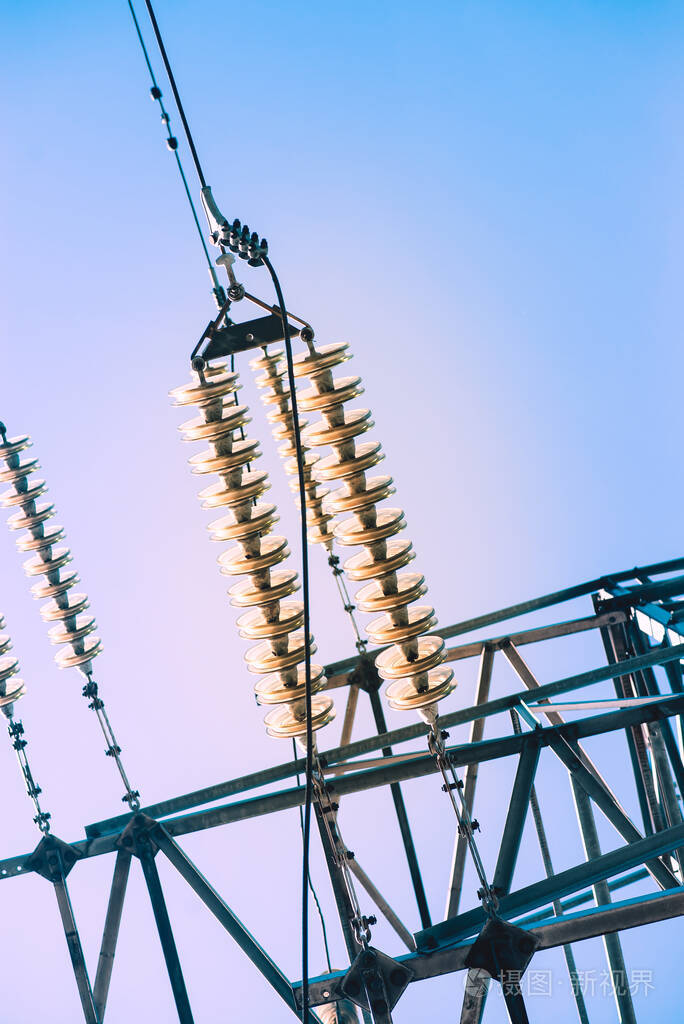insulator: (294, 341, 461, 712), (182, 368, 334, 739), (1, 443, 99, 672), (253, 345, 338, 543)
